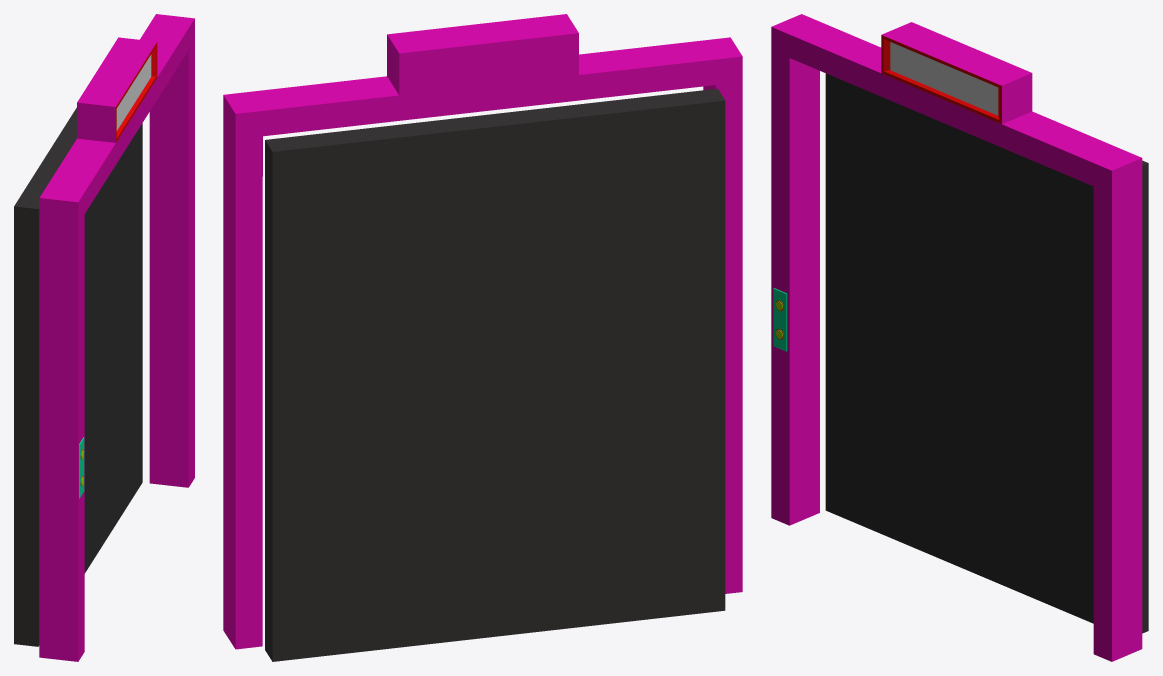
Rendered from fbx_ArmatureDoor.fbx.
3 renders of one model, left to right at view 1: azimuth 30°, elevation 25°; view 2: azimuth 150°, elevation 25°; view 3: azimuth 270°, elevation 25°, orthographic. The views are drawn at different scales.
Visible parts, largest first — view 1: pCube4, pCube3, pCube1, pCube7; view 2: pCube3, pCube1, pCube4; view 3: pCube4, pCube1, pCube3, pCube7.
Boxes of the visible parts, x1,y1,x2,y2 form: pCube4: (39,14,194,661); pCube3: (66,107,142,563); pCube1: (14,124,90,646); pCube7: (79,437,84,498); pCube3: (265,114,498,661); pCube1: (491,88,725,636); pCube4: (223,14,742,649); pCube4: (771,14,1142,661); pCube1: (825,73,977,574); pCube3: (977,137,1148,633); pCube7: (773,288,787,351).
Bounding box in the file's own units: 219 × 340 × 219.
